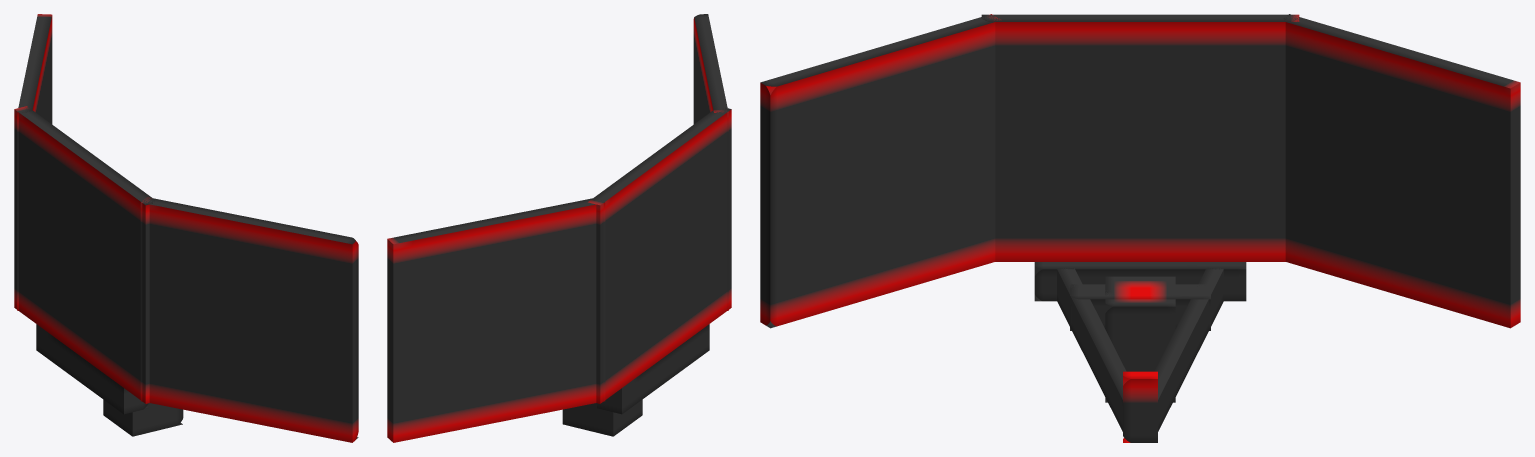
Rendered from radar_station_dynamic.obj.
The picture shows the model from 3 angles, left to right: view 1: azimuth 30°, elevation 25°; view 2: azimuth 150°, elevation 25°; view 3: azimuth 270°, elevation 25°; orthographic projection. The views are drawn at different scales.
Parts seen in each view (by area): view 1: Secondary_Dish_Piece_1, Main_Dish_Piece, Secondary_Dish_Piece_2, Main_Dish_Support, Pivot_Point; view 2: Secondary_Dish_Piece_2, Main_Dish_Piece, Secondary_Dish_Piece_1, Main_Dish_Support, Pivot_Point; view 3: Main_Dish_Piece, Secondary_Dish_Piece_1, Secondary_Dish_Piece_2, Pivot_Point, Main_Dish_Support, Focus_Support_1, Focus_Support_2, Focus_Point, Dish_Support.
Boxes of the visible parts, x1,y1,x2,y2 form: Secondary_Dish_Piece_1: (140,197,358,442); Main_Dish_Piece: (14,106,154,403); Secondary_Dish_Piece_2: (17,14,52,310); Main_Dish_Support: (36,324,148,414); Pivot_Point: (103,399,183,436); Secondary_Dish_Piece_2: (387,198,605,442); Main_Dish_Piece: (588,107,731,403); Secondary_Dish_Piece_1: (693,14,728,310); Main_Dish_Support: (597,324,709,414); Pivot_Point: (562,399,642,436); Main_Dish_Piece: (981,14,1299,261); Secondary_Dish_Piece_1: (760,14,1000,328); Secondary_Dish_Piece_2: (1283,14,1520,328); Pivot_Point: (1105,276,1175,402); Main_Dish_Support: (1034,262,1246,301); Focus_Support_1: (1057,267,1126,431); Focus_Support_2: (1154,268,1223,431); Focus_Point: (1123,371,1157,442); Dish_Support: (1070,284,1210,330).
Size of the model in its own units: 1.32 by 1.31 by 2.69.
